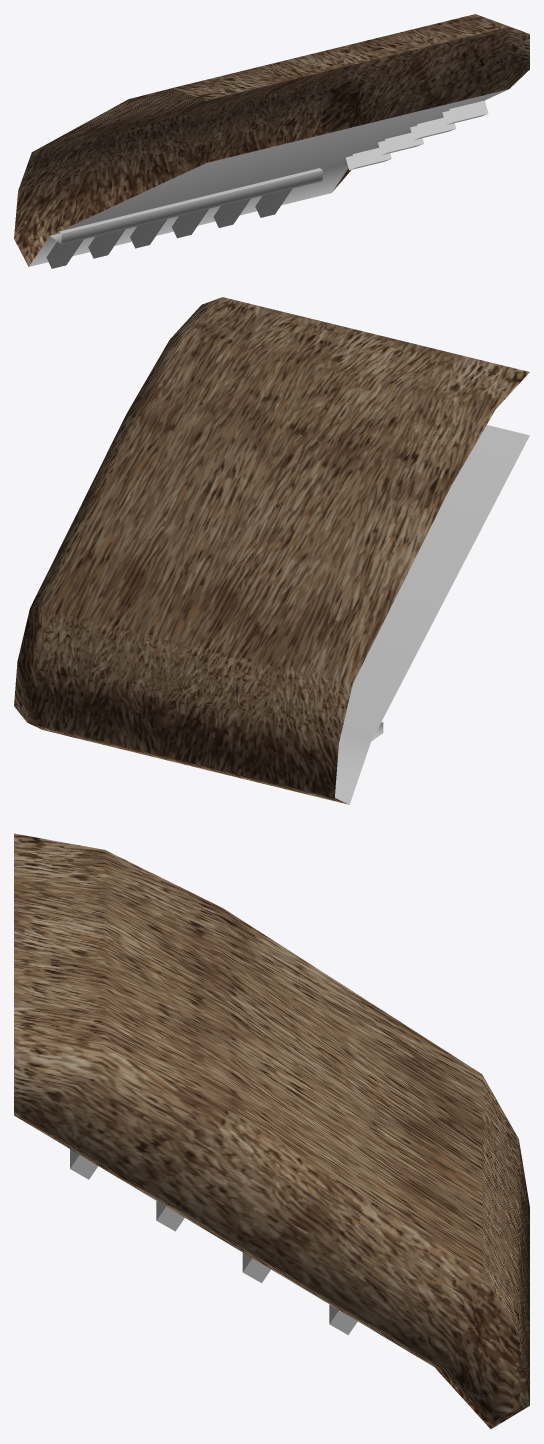
Rendered from Roof_End_Normal_04.FBX.
3 renders of one model, top to bottom at view 1: azimuth 30°, elevation 25°; view 2: azimuth 150°, elevation 25°; view 3: azimuth 270°, elevation 25°, orthographic. The views are drawn at different scales.
Parts seen in each view (by area): view 1: Roof_End_Normal_04; view 2: Roof_End_Normal_04; view 3: Roof_End_Normal_04.
Part boxes in pixels (left/top/right/bottom): Roof_End_Normal_04: left=14, top=14, right=529, bottom=268; Roof_End_Normal_04: left=14, top=297, right=529, bottom=804; Roof_End_Normal_04: left=14, top=833, right=529, bottom=1429.
Size of the model in its own units: 7.75 by 6.79 by 7.98.
